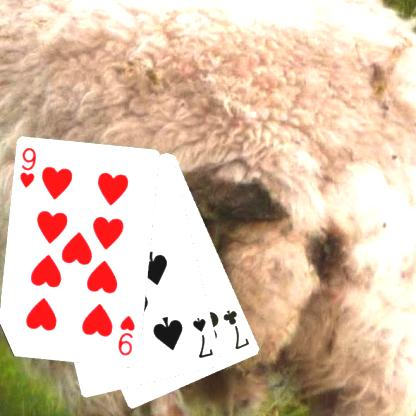7C: (220, 307, 251, 351)
7S: (190, 315, 215, 360)
9H: (115, 313, 136, 358), (17, 145, 38, 190)
